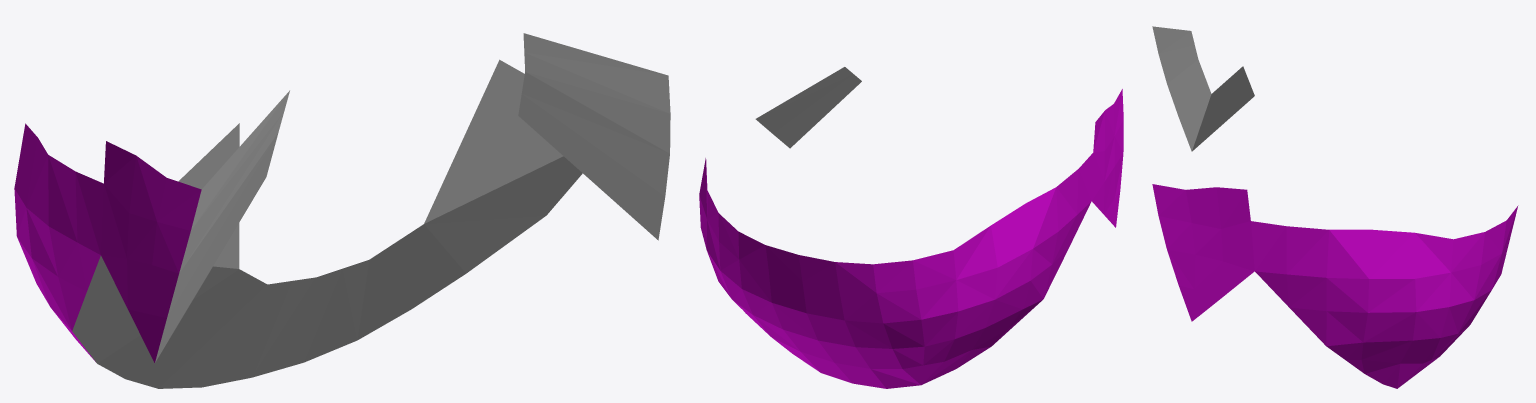
The picture shows the model from 3 angles, left to right: view 1: azimuth 30°, elevation 25°; view 2: azimuth 150°, elevation 25°; view 3: azimuth 270°, elevation 25°; orthographic projection. The views are drawn at different scales.
Visible parts, largest first — view 1: shape; view 2: shape; view 3: shape.
Part boxes in pixels (left/top/right/bottom): shape: left=14, top=33, right=670, bottom=388; shape: left=699, top=67, right=1123, bottom=388; shape: left=1152, top=26, right=1518, bottom=388.
Bounding box in the file's own units: 53.19 × 41.52 × 46.77.
